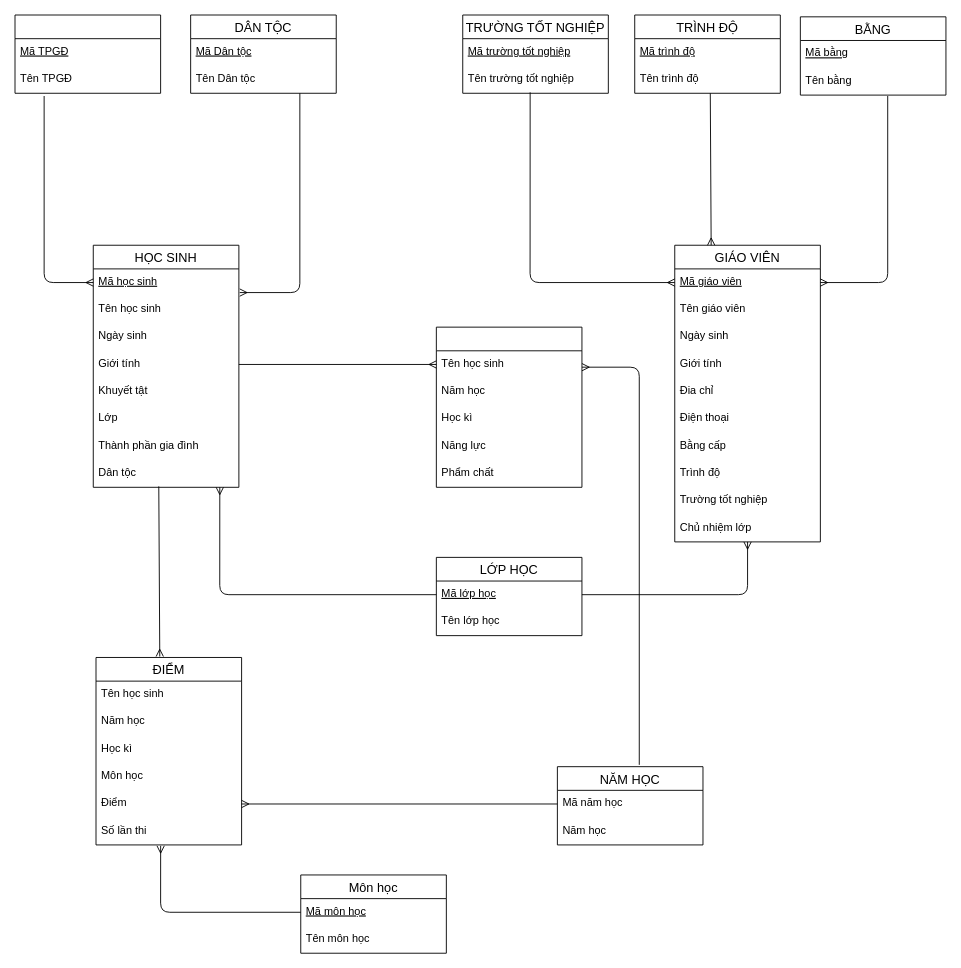
Some shapes in this 961 by 968 pixel diagram are drawn without their labels. Each missing label, with the box of its shape:
GIA ĐÌNH: (14, 14, 161, 93)
KẾT QUẢ ĐÁNH GIÁ: (435, 326, 582, 487)
